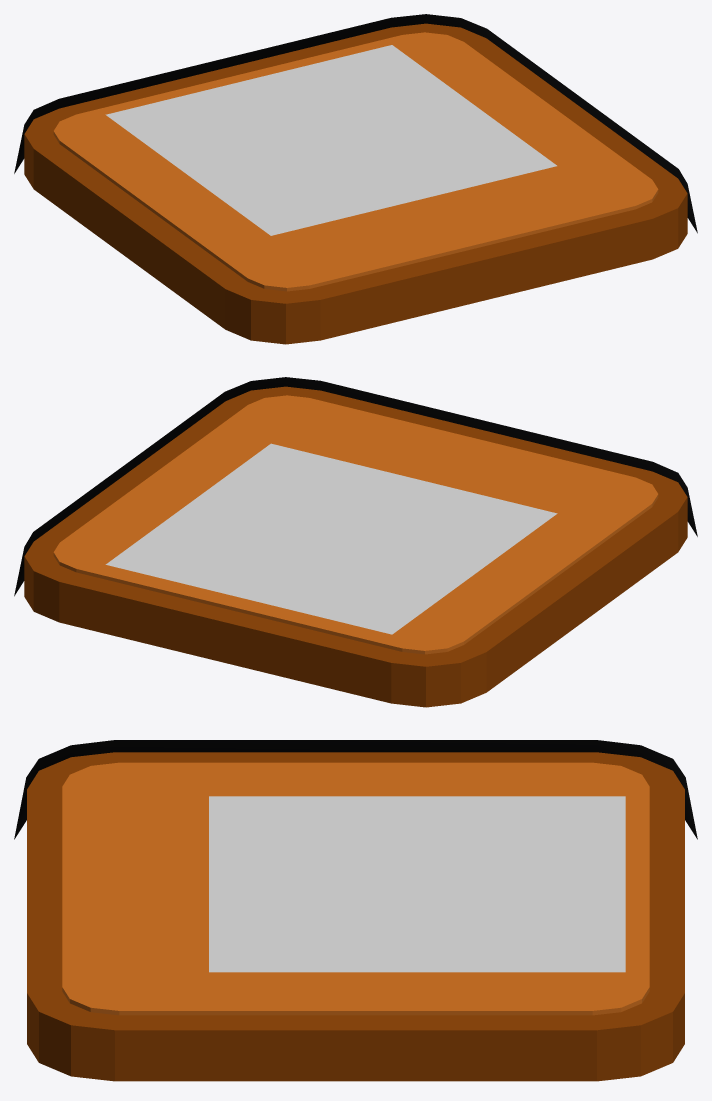
Rendered from BR_Feld_Aktion.glb.
3 renders of one model, top to bottom at view 1: azimuth 30°, elevation 25°; view 2: azimuth 150°, elevation 25°; view 3: azimuth 270°, elevation 25°, orthographic. The views are drawn at different scales.
Visible parts, largest first — view 1: BR_Feld_Aktion_Mesh, BR_Feld_Aktion_Outline; view 2: BR_Feld_Aktion_Mesh, BR_Feld_Aktion_Outline; view 3: BR_Feld_Aktion_Mesh, BR_Feld_Aktion_Outline.
Boxes of the visible parts, left/top/right/bottom form: BR_Feld_Aktion_Mesh: left=24, top=23, right=687, bottom=344; BR_Feld_Aktion_Outline: left=14, top=14, right=697, bottom=233; BR_Feld_Aktion_Mesh: left=24, top=386, right=687, bottom=707; BR_Feld_Aktion_Outline: left=14, top=377, right=697, bottom=596; BR_Feld_Aktion_Mesh: left=27, top=752, right=684, bottom=1081; BR_Feld_Aktion_Outline: left=14, top=740, right=697, bottom=839.
Size of the model in its own units: 1.56 by 0.1588 by 1.56.
